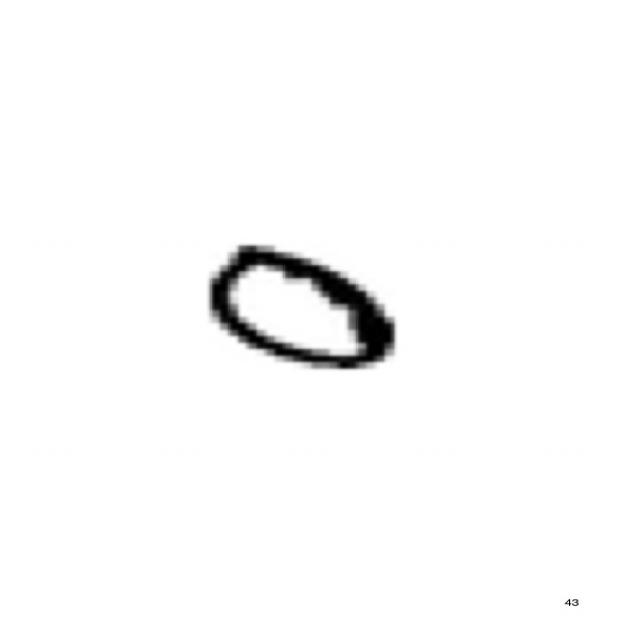5 -five-: (188, 238, 409, 377)
